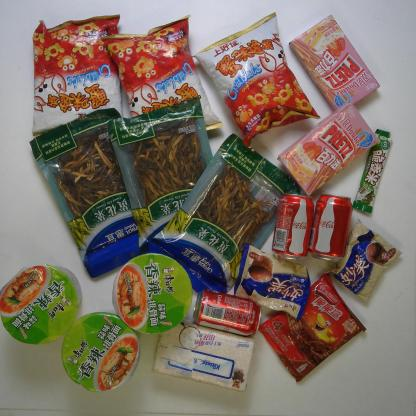Chocolate: (350, 128, 394, 214)
Dessert: (257, 272, 366, 384), (289, 14, 381, 118), (278, 102, 378, 196), (330, 218, 404, 298), (232, 243, 311, 316)
Dried Food: (145, 134, 300, 300), (29, 107, 163, 278), (109, 96, 221, 254)
Drink: (194, 290, 262, 337), (271, 193, 313, 262), (310, 194, 352, 262)
Instant Noodles: (112, 254, 192, 335), (0, 265, 81, 344), (62, 312, 140, 392)
Puffed Food: (194, 12, 324, 147), (100, 16, 220, 142), (32, 13, 123, 138)
Tissue: (152, 318, 254, 391)
